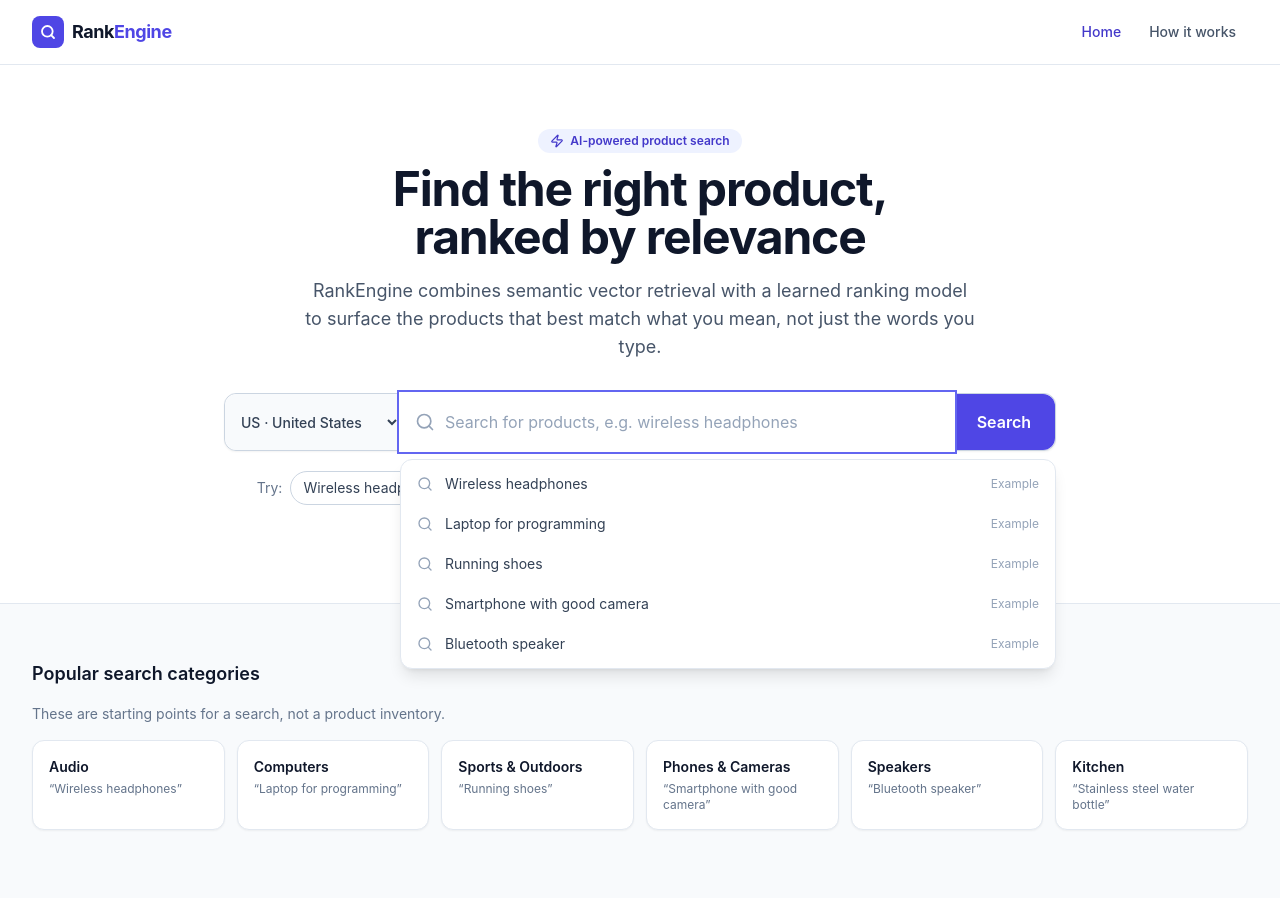
it: home page › clear button empties the input
This screenshot has width=1280, height=898.
In the dropdown named "search products": (677, 422) [401,394,953,450], type "shoes"
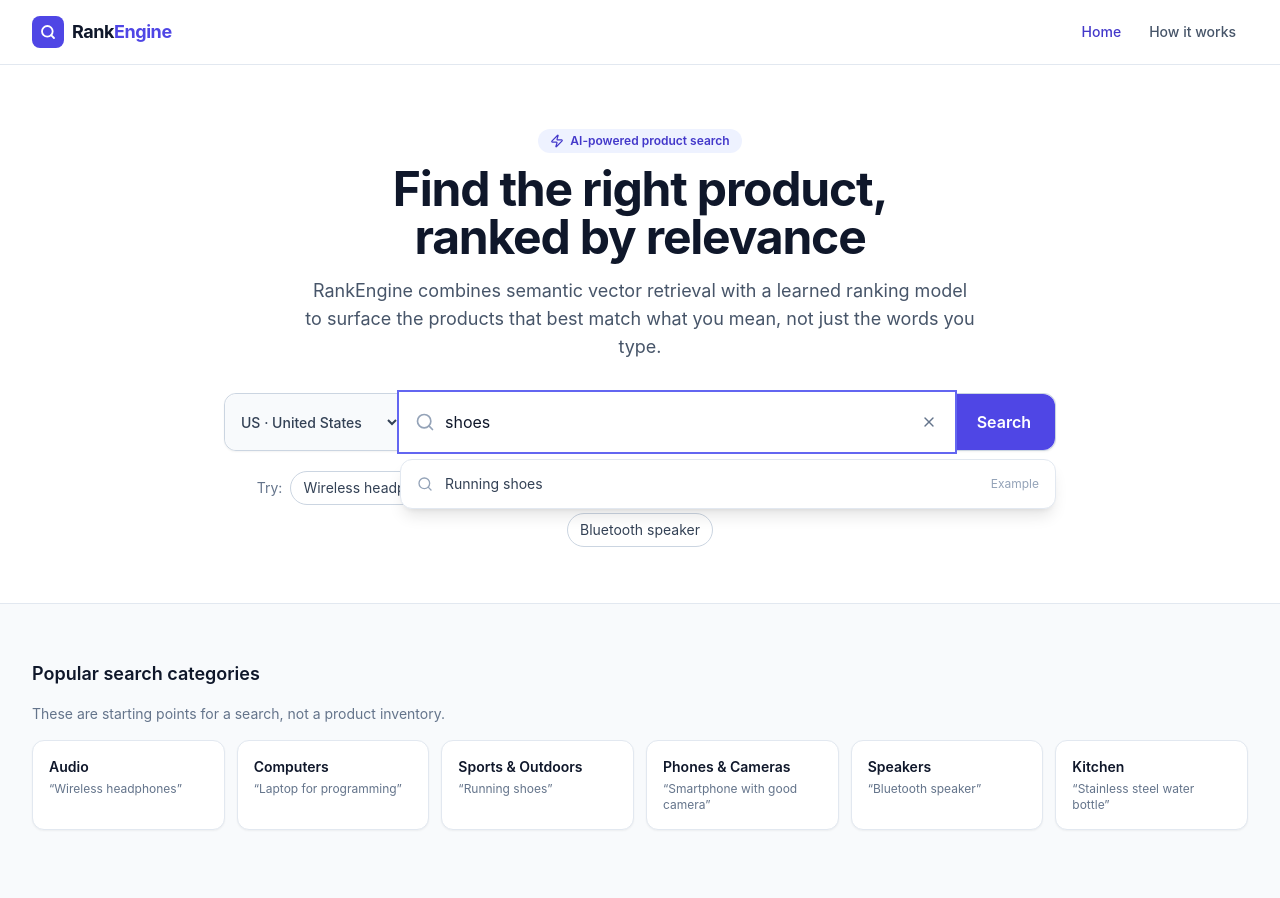
Click the button named "clear search": click(929, 422) [913,406,945,438]
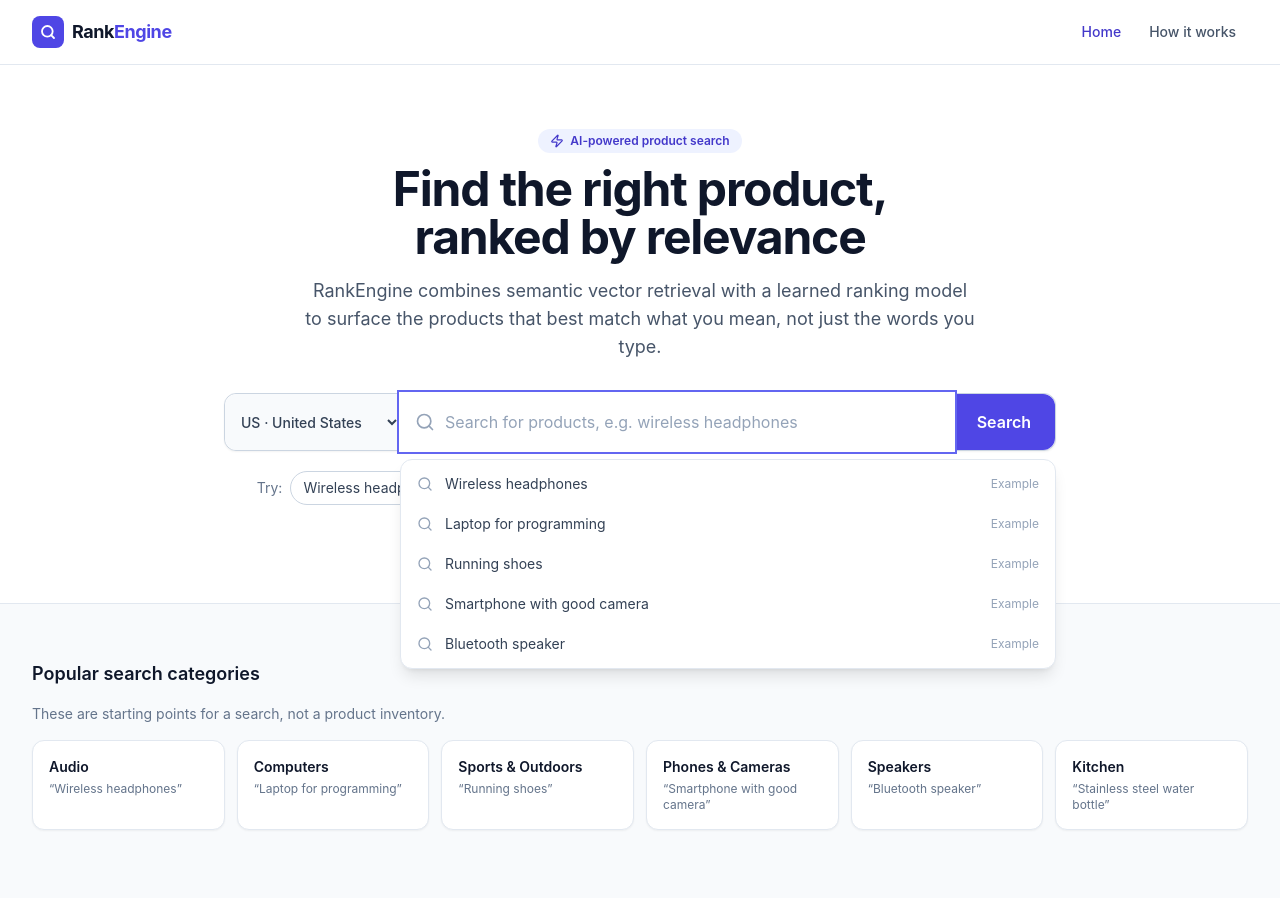
Expected: the dropdown named "search products" is empty, [401,394,953,450]
